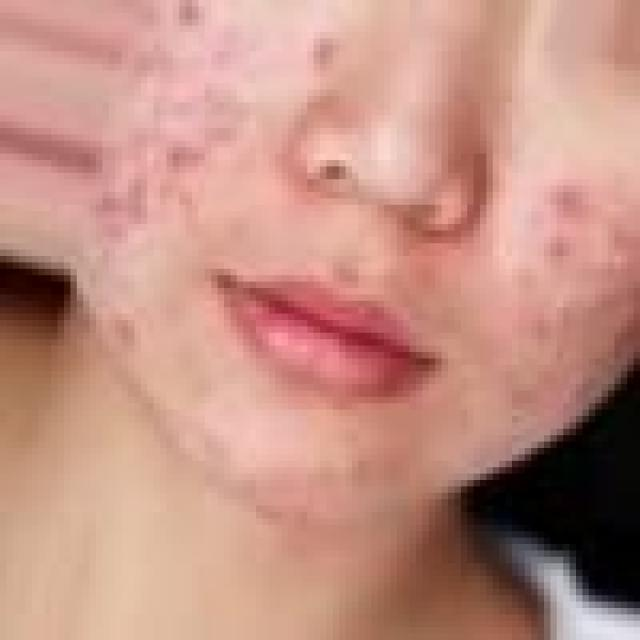acne: (168, 132, 231, 210), (546, 178, 588, 270), (286, 27, 344, 87)
